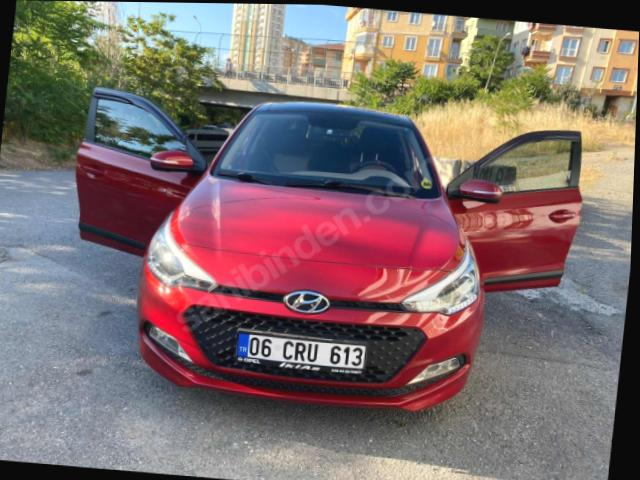plaka: (236, 332, 366, 369)
